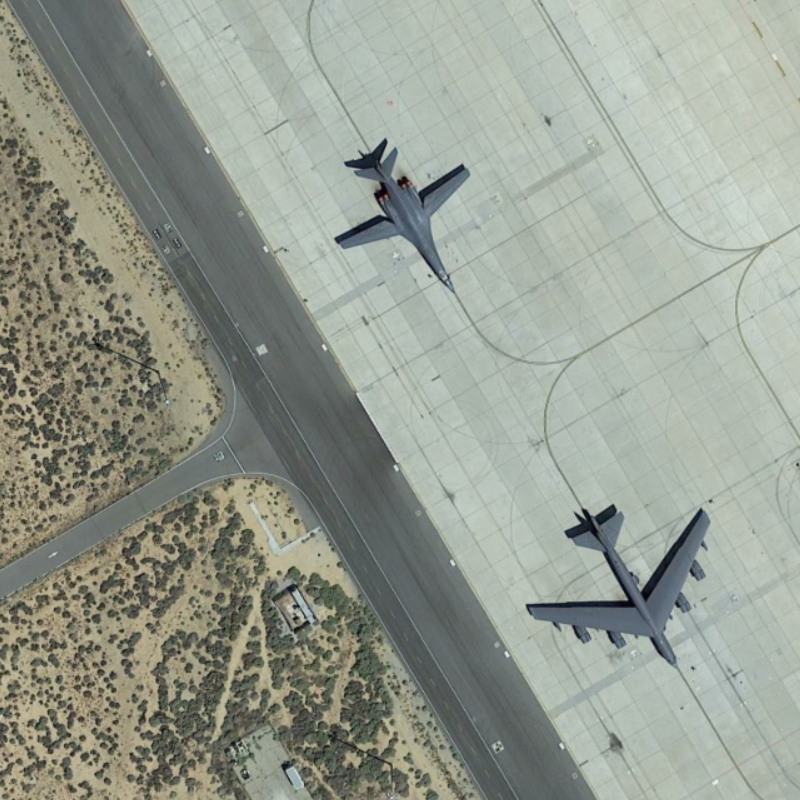A10: (333, 138, 480, 300)
A8: (517, 495, 721, 677)
